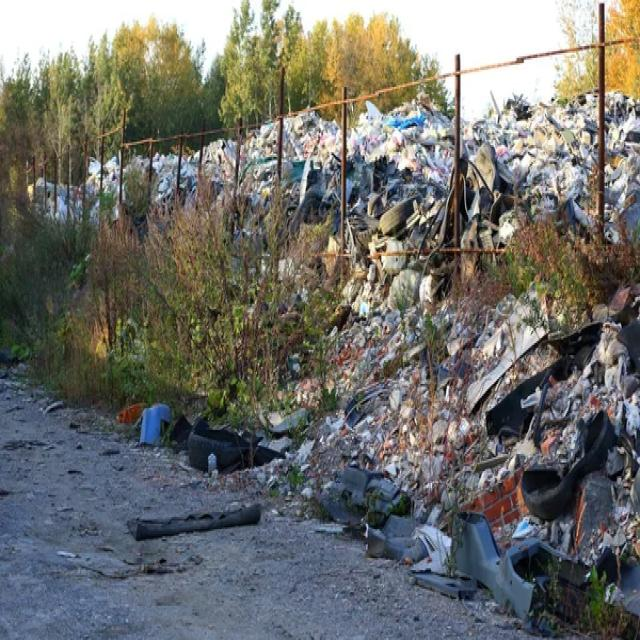garbage: (312, 35, 640, 483)
